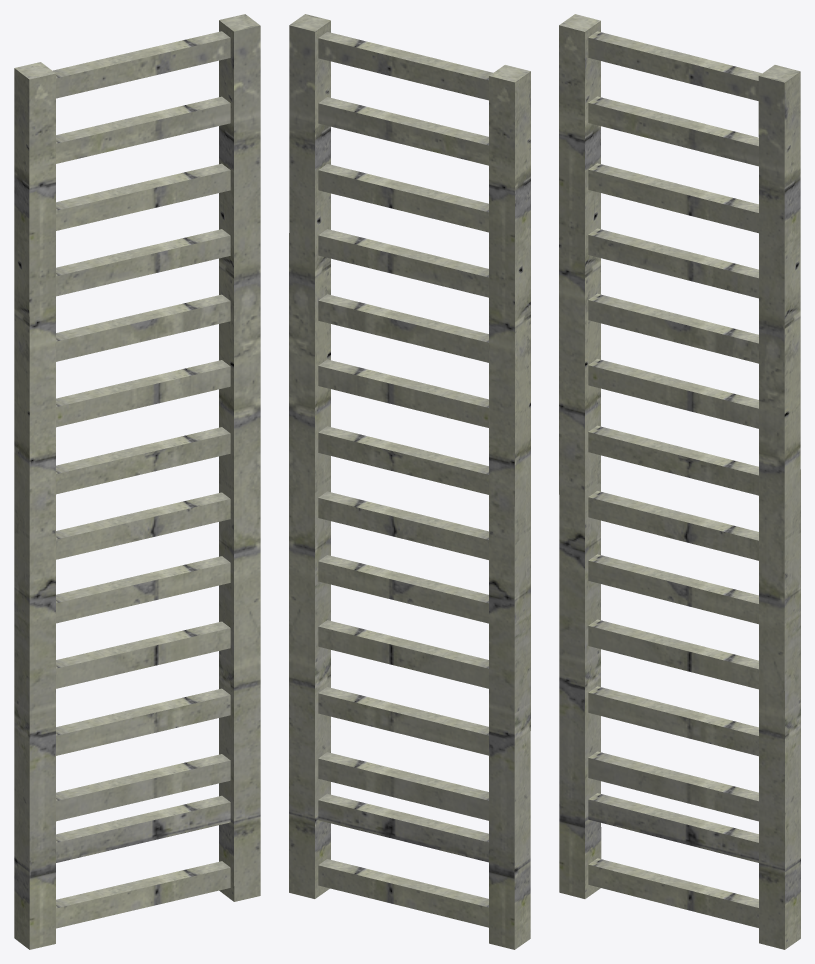
File: SM_Scaffoldingue_Echelles_00.fbx
3 renders of one model, left to right at view 1: azimuth 30°, elevation 25°; view 2: azimuth 150°, elevation 25°; view 3: azimuth 330°, elevation 25°, orthographic.
Visible parts, largest first — view 1: SM_Scaffoldingue_Echelles_00; view 2: SM_Scaffoldingue_Echelles_00; view 3: SM_Scaffoldingue_Echelles_00.
Boxes of the visible parts, left/top/right/bottom form: SM_Scaffoldingue_Echelles_00: left=14, top=14, right=260, bottom=949; SM_Scaffoldingue_Echelles_00: left=289, top=14, right=530, bottom=949; SM_Scaffoldingue_Echelles_00: left=559, top=14, right=800, bottom=949.
Bounding box in the file's own units: 143 × 519 × 19.37.
